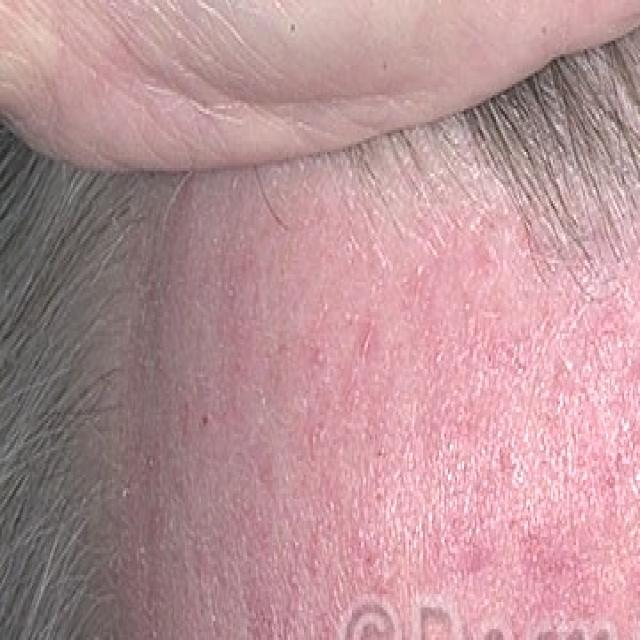Rosacea: (195, 199, 620, 580)
